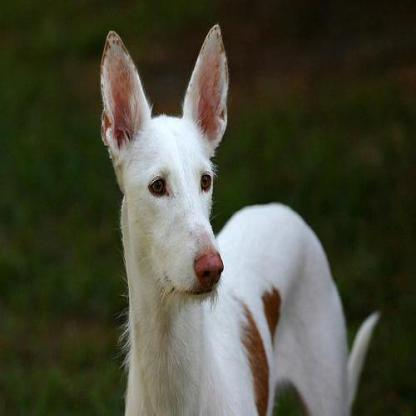dog: (87, 11, 380, 415)
